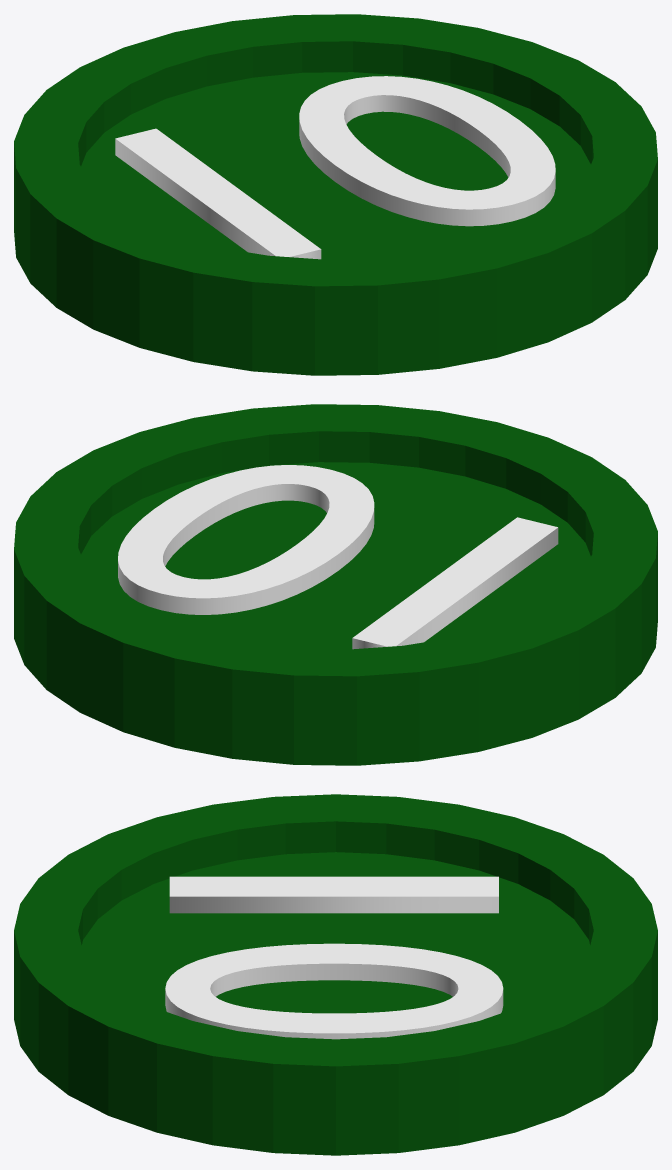
File: moneta_10.fbx
3 views of the same model, one above another, from view 1: azimuth 30°, elevation 25°; view 2: azimuth 150°, elevation 25°; view 3: azimuth 270°, elevation 25° (orthographic).
Visible parts, largest first — view 1: MONETA_10, NOMINAL_G; view 2: MONETA_10, NOMINAL_G; view 3: MONETA_10, NOMINAL_G.
Part boxes in pixels (bbox=[...]): MONETA_10: bbox=[14, 14, 657, 375]; NOMINAL_G: bbox=[115, 76, 555, 259]; MONETA_10: bbox=[14, 404, 657, 765]; NOMINAL_G: bbox=[118, 465, 558, 649]; MONETA_10: bbox=[14, 794, 657, 1155]; NOMINAL_G: bbox=[165, 876, 503, 1039].
Bounding box in the file's own units: 200 × 30.58 × 200.
